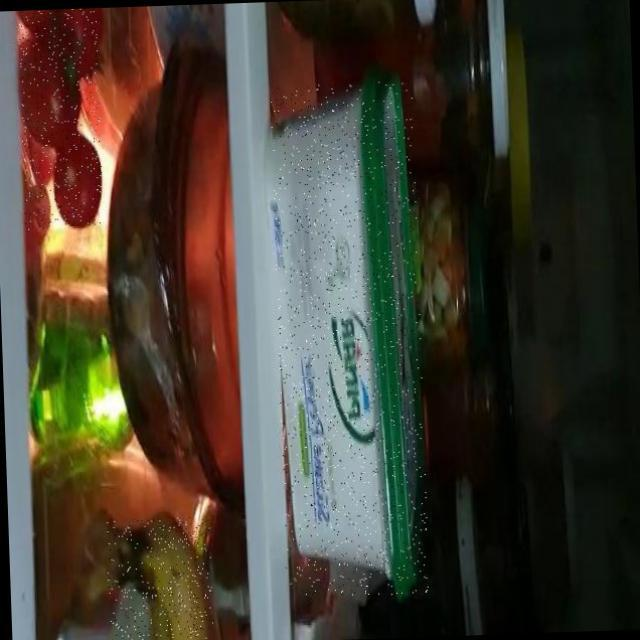Plátano: (104, 516, 212, 640)
Queso: (267, 80, 428, 598)
tomato paste: (17, 8, 103, 231)
